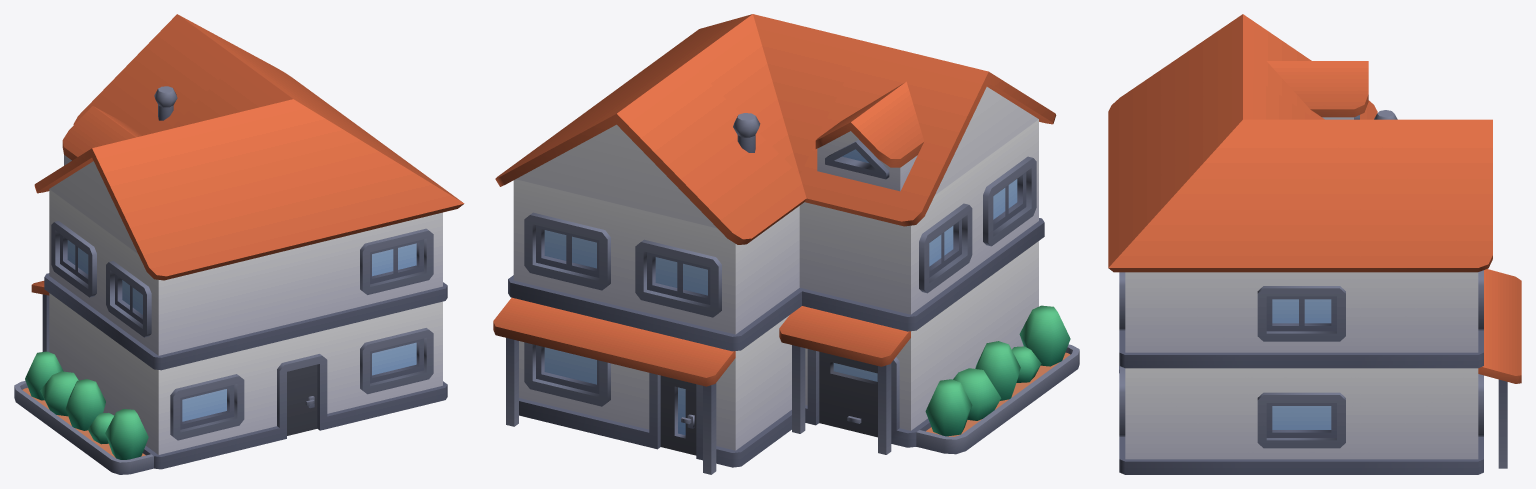
Rendered from house_suburb_f_warm.glb.
The picture shows the model from 3 angles, left to right: view 1: azimuth 30°, elevation 25°; view 2: azimuth 150°, elevation 25°; view 3: azimuth 270°, elevation 25°; orthographic projection. The views are drawn at different scales.
Parts seen in each view (by area): view 1: building-type-f; view 2: building-type-f; view 3: building-type-f.
Part boxes in pixels (x1=…): building-type-f: x1=14, y1=14, x2=464, y2=474; building-type-f: x1=493, y1=14, x2=1079, y2=474; building-type-f: x1=1108, y1=14, x2=1521, y2=474.
Size of the model in its own units: 1.43 by 1.14 by 1.41.
Materials: 1 (1 with a texture image).
